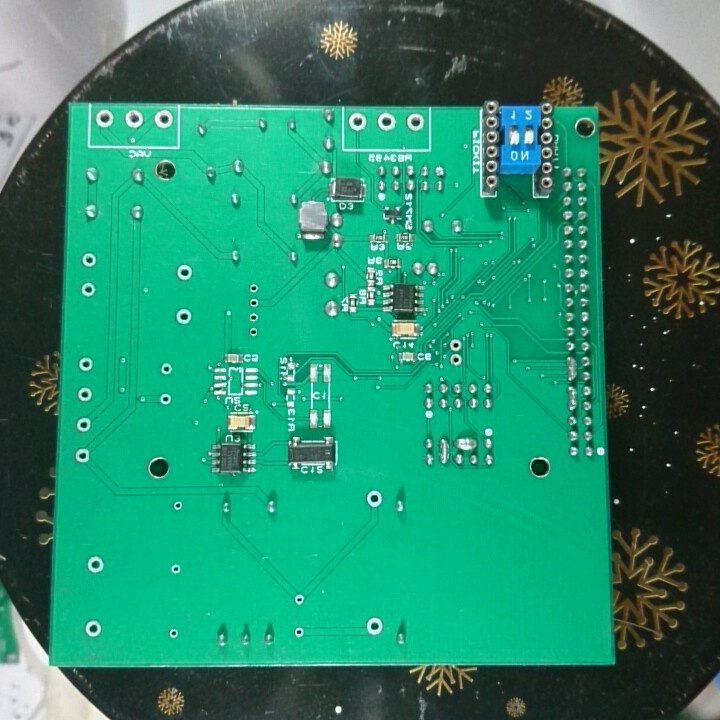F: (152, 107, 175, 132), (364, 614, 386, 640), (85, 552, 106, 578), (122, 108, 146, 130), (82, 618, 104, 640), (174, 263, 196, 285), (364, 487, 385, 509), (94, 107, 114, 130), (404, 112, 425, 133), (347, 112, 369, 132), (78, 278, 98, 300), (376, 112, 397, 132), (174, 306, 195, 326), (71, 446, 92, 464), (77, 355, 96, 374), (75, 385, 94, 404), (74, 415, 94, 433), (291, 590, 309, 609), (79, 251, 97, 269), (245, 324, 262, 343), (447, 352, 466, 369), (291, 623, 307, 641), (158, 391, 174, 408), (246, 280, 263, 296), (448, 337, 466, 352), (166, 626, 182, 642), (159, 361, 174, 377), (246, 295, 261, 311), (245, 310, 262, 324), (168, 562, 183, 577), (171, 498, 185, 514)
P: (563, 383, 582, 412), (451, 435, 479, 452), (436, 435, 451, 465), (564, 355, 579, 383)
